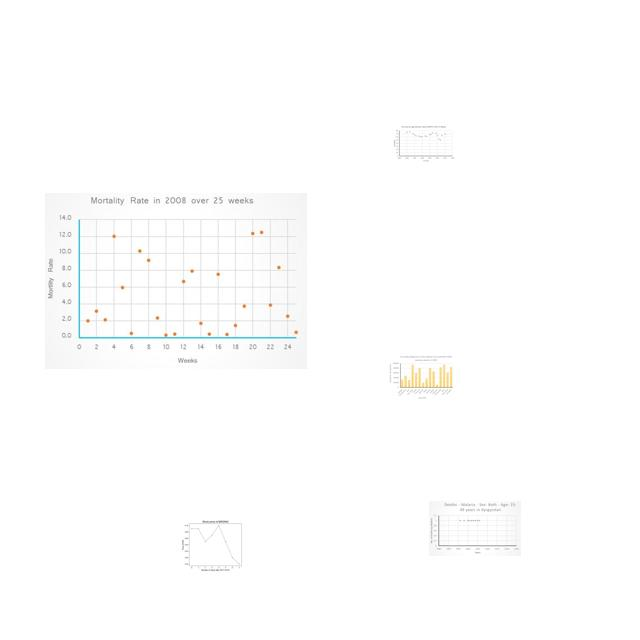Graph: (45, 193, 307, 369), (429, 501, 521, 556), (178, 517, 251, 572), (388, 354, 454, 400), (392, 125, 455, 162)
